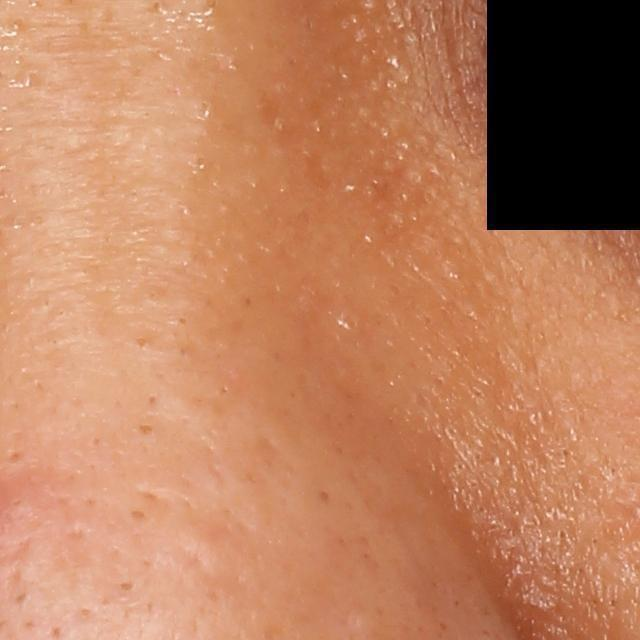comedo: (3, 444, 27, 468), (112, 575, 140, 595), (125, 505, 149, 527)
